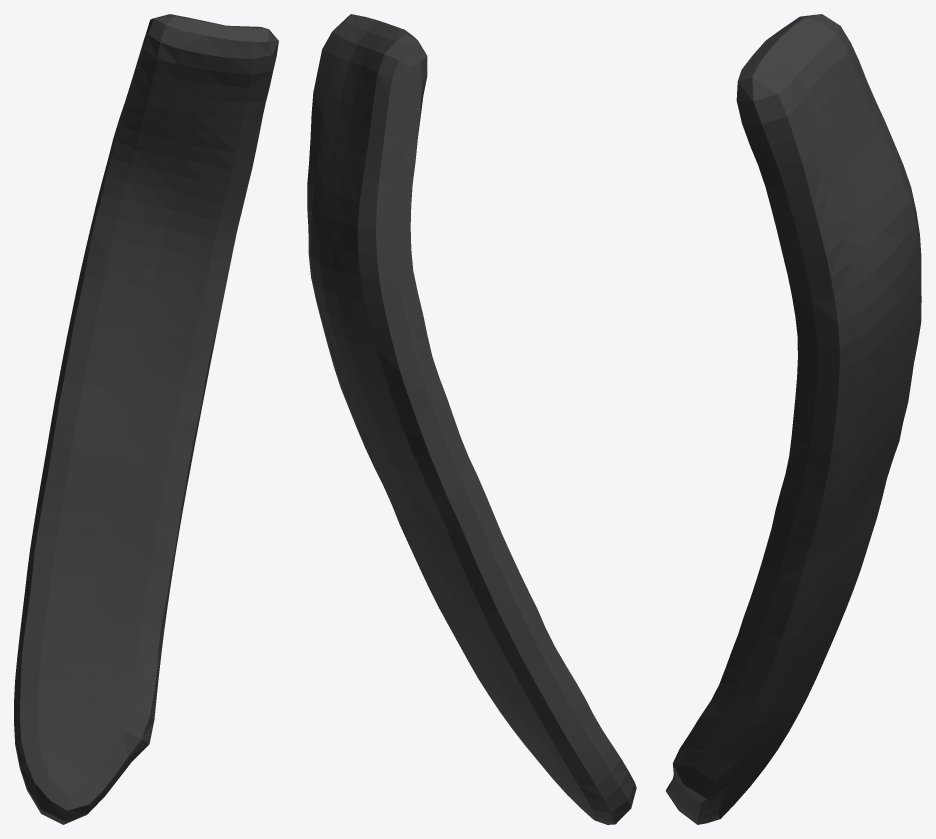
Rendered from SUBSINUOSAL_GROOVE.glb.
3 renders of one model, left to right at view 1: azimuth 30°, elevation 25°; view 2: azimuth 150°, elevation 25°; view 3: azimuth 270°, elevation 25°, orthographic. The views are drawn at different scales.
Visible parts, largest first — view 1: SUBSINUOSAL_GROOVE; view 2: SUBSINUOSAL_GROOVE; view 3: SUBSINUOSAL_GROOVE.
Boxes of the visible parts, <box> form: SUBSINUOSAL_GROOVE: <box>14,14,278,824</box>; SUBSINUOSAL_GROOVE: <box>307,14,636,824</box>; SUBSINUOSAL_GROOVE: <box>665,14,921,824</box>.
Bounding box in the file's own units: 20.23 × 53.5 × 13.87.
Materials: 1 (1 with a texture image).
